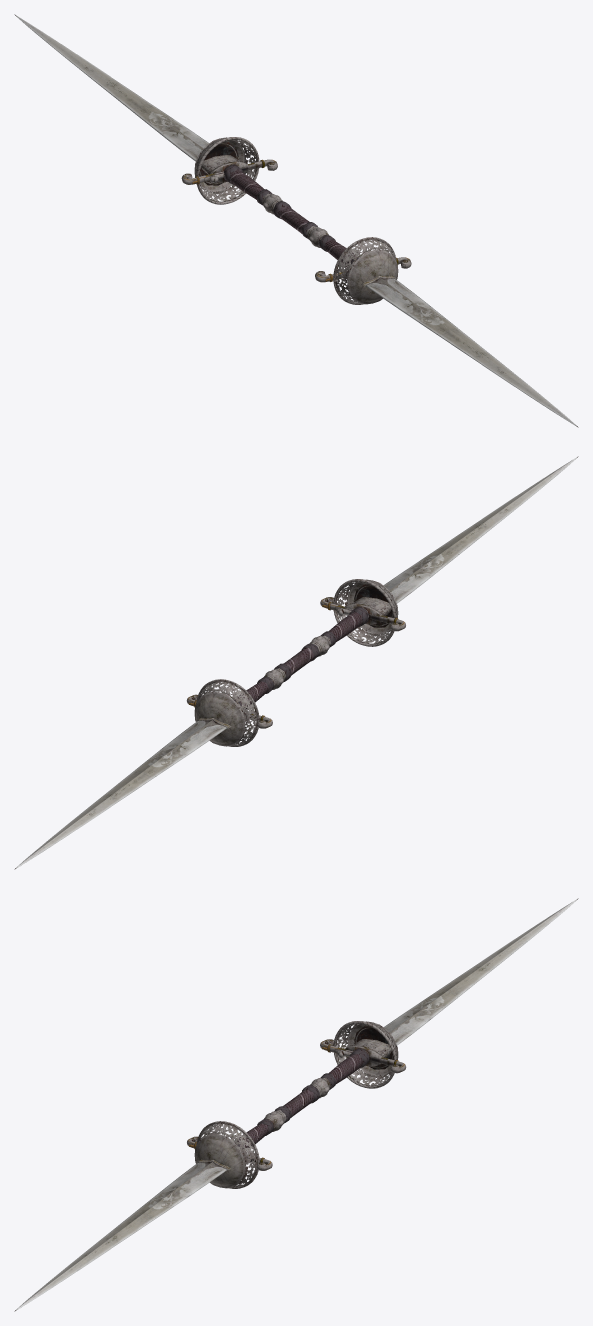
3 views of the same model, one above another, from view 1: azimuth 30°, elevation 25°; view 2: azimuth 150°, elevation 25°; view 3: azimuth 330°, elevation 25° (orthographic).
Parts seen in each view (by area): view 1: WP_A_1105.001, WP_A_1105; view 2: WP_A_1105.001, WP_A_1105; view 3: WP_A_1105.001, WP_A_1105.
Boxes of the visible parts, x1,y1,x2,y2 form: WP_A_1105.001: (14,14,578,427); WP_A_1105: (194,137,398,304); WP_A_1105.001: (14,456,578,869); WP_A_1105: (194,579,398,746); WP_A_1105.001: (14,898,578,1311); WP_A_1105: (194,1021,398,1188).
Bounding box in the file's own units: 26.17 × 18.55 × 288.
2 materials, 2 textured.
